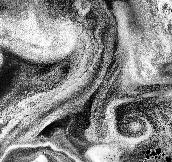CE: (106, 111, 154, 142)
